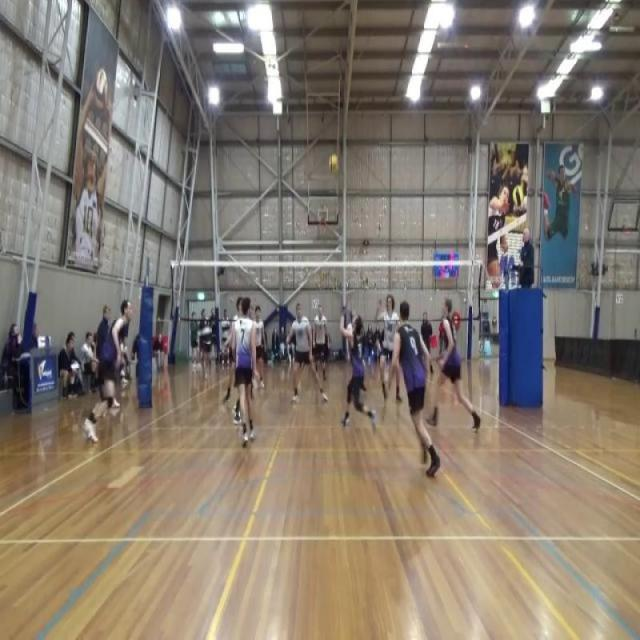volleyball: (94, 67, 109, 111), (512, 184, 525, 208), (328, 152, 340, 175)
